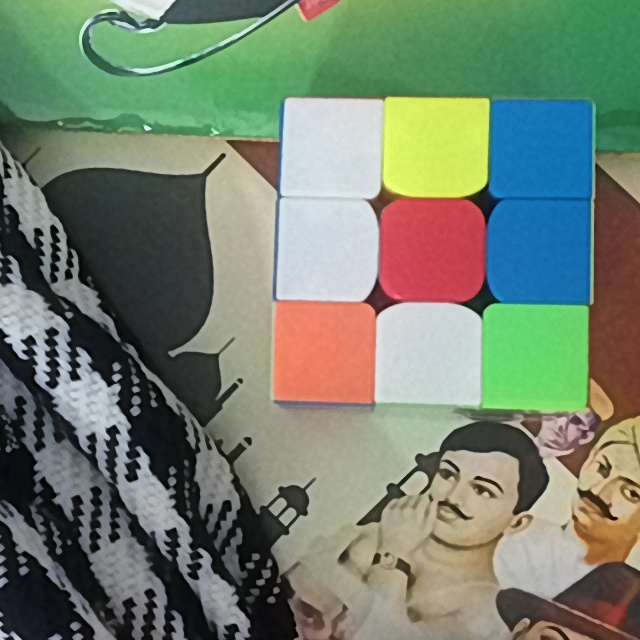tile: (276, 307, 370, 398), (491, 310, 581, 403), (496, 105, 591, 192), (496, 210, 584, 300), (388, 207, 475, 296), (383, 314, 472, 400), (289, 102, 374, 191), (391, 102, 481, 186), (283, 202, 369, 289)
